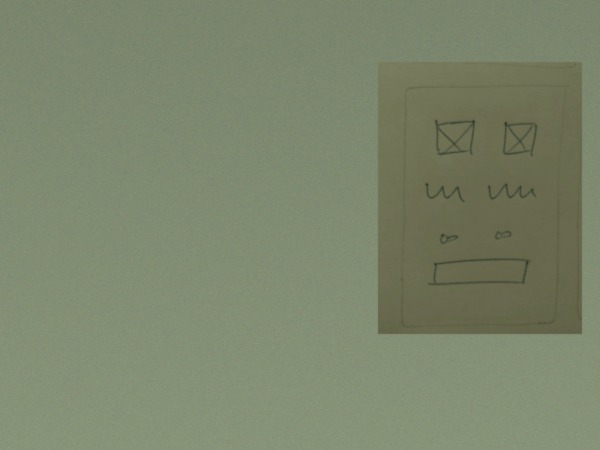image: (430, 114, 479, 159), (496, 118, 544, 163)
switch: (489, 224, 518, 243), (433, 228, 463, 246)
text: (423, 179, 469, 210), (483, 179, 538, 204)
text_input: (420, 257, 538, 289)
